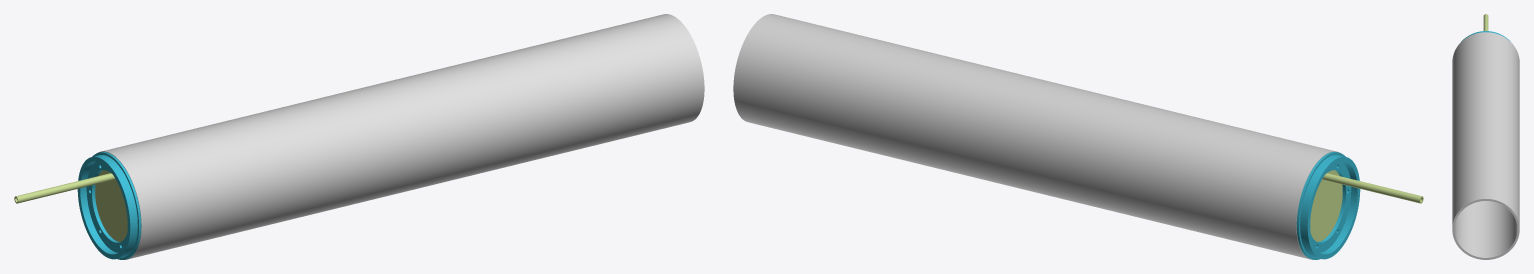
Rendered from baby_auv_assembly.gltf.
3 views of the same model, side by side, from view 1: azimuth 30°, elevation 25°; view 2: azimuth 150°, elevation 25°; view 3: azimuth 270°, elevation 25° (orthographic). The views are drawn at different scales.
Visible parts, largest first — view 1: d6056b42-50ae-11ee-9050-00155db8f304_part, d61b6cb2-50ae-11ee-9050-00155db8f304_part, d62b3034-50ae-11ee-9050-00155db8f304_part, d62c2b88-50ae-11ee-9050-00155db8f304_part; view 2: d6056b42-50ae-11ee-9050-00155db8f304_part, d61b6cb2-50ae-11ee-9050-00155db8f304_part, d62b3034-50ae-11ee-9050-00155db8f304_part, d62c2b88-50ae-11ee-9050-00155db8f304_part; view 3: d6056b42-50ae-11ee-9050-00155db8f304_part, d62c2b88-50ae-11ee-9050-00155db8f304_part, d61b6cb2-50ae-11ee-9050-00155db8f304_part.
Part boxes in pixels (bbox=[...]): d6056b42-50ae-11ee-9050-00155db8f304_part: bbox=[98, 14, 704, 259]; d61b6cb2-50ae-11ee-9050-00155db8f304_part: bbox=[77, 152, 141, 259]; d62b3034-50ae-11ee-9050-00155db8f304_part: bbox=[95, 170, 127, 241]; d62c2b88-50ae-11ee-9050-00155db8f304_part: bbox=[14, 173, 115, 203]; d6056b42-50ae-11ee-9050-00155db8f304_part: bbox=[733, 14, 1339, 259]; d61b6cb2-50ae-11ee-9050-00155db8f304_part: bbox=[1296, 152, 1360, 259]; d62b3034-50ae-11ee-9050-00155db8f304_part: bbox=[1310, 170, 1342, 241]; d62c2b88-50ae-11ee-9050-00155db8f304_part: bbox=[1322, 173, 1423, 203]; d6056b42-50ae-11ee-9050-00155db8f304_part: bbox=[1452, 32, 1519, 259]; d62c2b88-50ae-11ee-9050-00155db8f304_part: bbox=[1483, 14, 1488, 30]; d61b6cb2-50ae-11ee-9050-00155db8f304_part: bbox=[1459, 31, 1512, 43].
Bounding box in the file's own units: 610 × 88.9 × 88.87.
